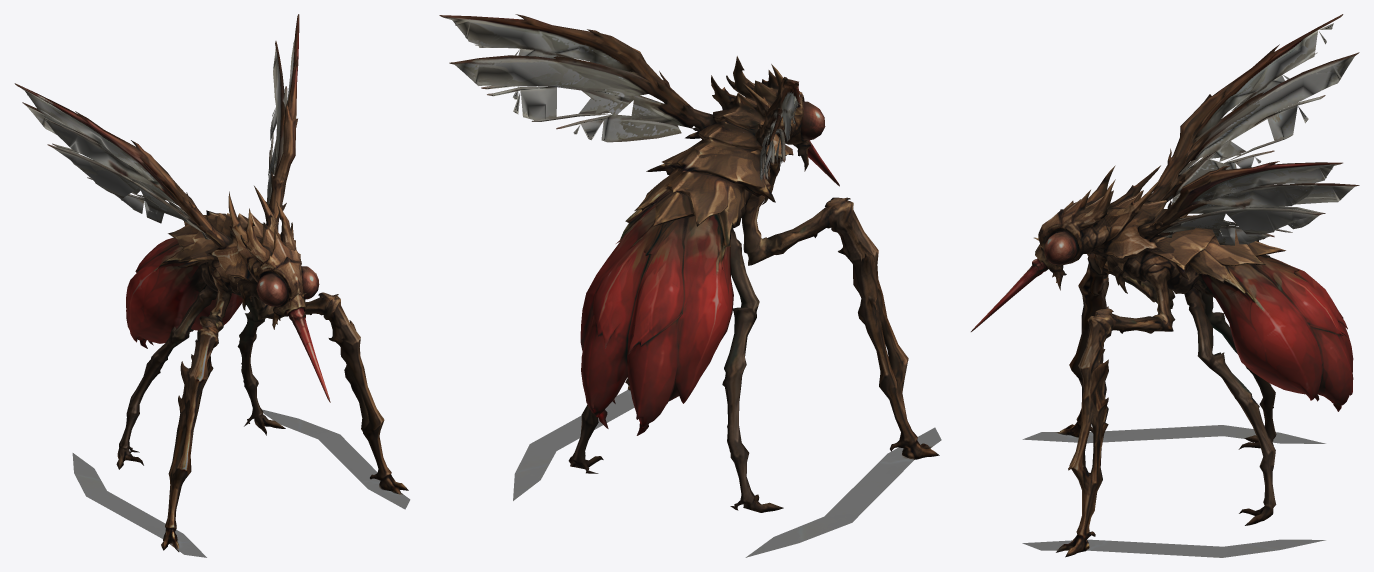
File: W04_mire_sucker.glb
The picture shows the model from 3 angles, left to right: view 1: azimuth 30°, elevation 25°; view 2: azimuth 150°, elevation 25°; view 3: azimuth 270°, elevation 25°; orthographic projection. The views are drawn at different scales.
Visible parts, largest first — view 1: tripo_3e0bc754_724d_4885_a645_7c7b59a6c925; view 2: tripo_3e0bc754_724d_4885_a645_7c7b59a6c925; view 3: tripo_3e0bc754_724d_4885_a645_7c7b59a6c925.
Part boxes in pixels (box(x1,y1,x2,y2)): tripo_3e0bc754_724d_4885_a645_7c7b59a6c925: box(14, 14, 410, 557); tripo_3e0bc754_724d_4885_a645_7c7b59a6c925: box(439, 14, 941, 557); tripo_3e0bc754_724d_4885_a645_7c7b59a6c925: box(971, 14, 1359, 557).
Bounding box in the file's own units: 0.7866 × 0.9995 × 0.8677.
Materials: 1 (1 with a texture image).
